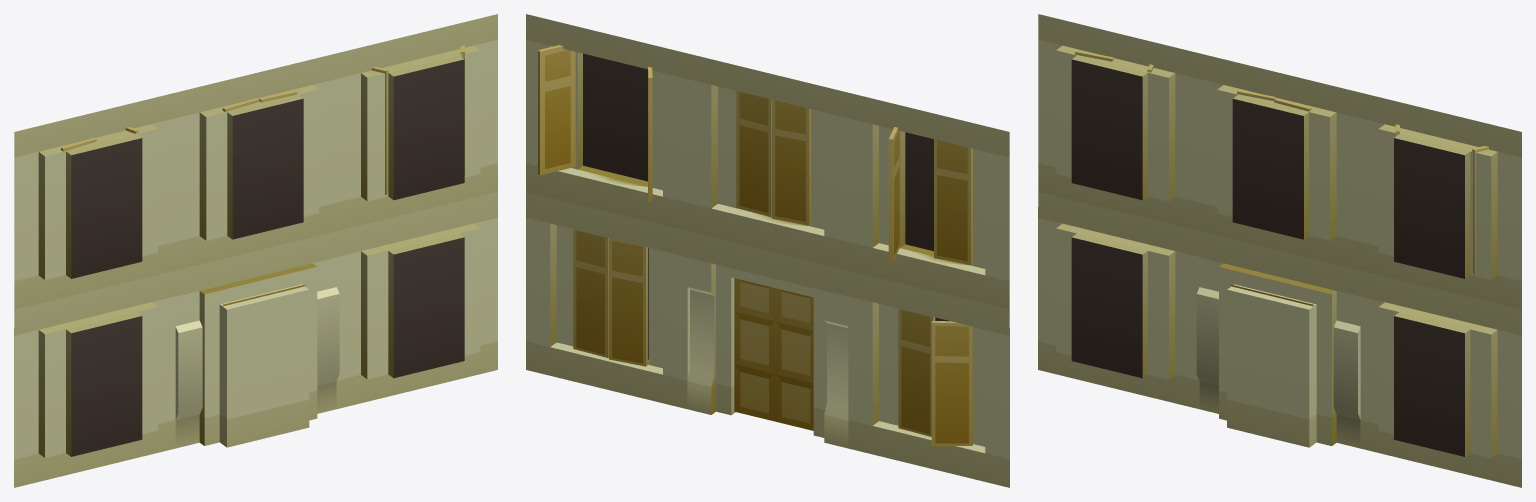
The model's file is SM_Rich_Facade_02.fbx.
The picture shows the model from 3 angles, left to right: view 1: azimuth 30°, elevation 25°; view 2: azimuth 150°, elevation 25°; view 3: azimuth 330°, elevation 25°; orthographic projection.
Parts seen in each view (by area): view 1: SM_Rich_Facade_02; view 2: SM_Rich_Facade_02; view 3: SM_Rich_Facade_02.
Boxes of the visible parts, x1=… form: SM_Rich_Facade_02: x1=14, y1=14, x2=497, y2=487; SM_Rich_Facade_02: x1=526, y1=14, x2=1009, y2=487; SM_Rich_Facade_02: x1=1038, y1=14, x2=1521, y2=487.
Bounding box in the file's own units: 9.01 × 6.33 × 0.8343.
